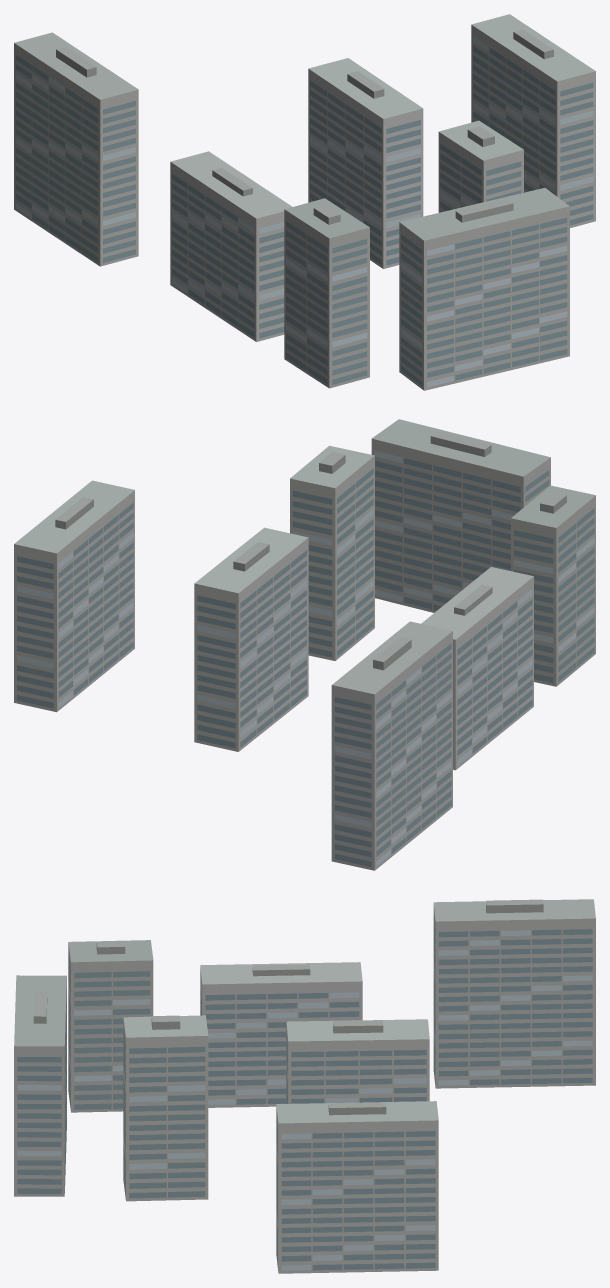
Rendered from apt-a13676702.glb.
The picture shows the model from 3 angles, top to bottom: view 1: azimuth 30°, elevation 25°; view 2: azimuth 150°, elevation 25°; view 3: azimuth 270°, elevation 25°; orthographic projection. The views are drawn at different scales.
Parts seen in each view (by area): view 1: apt-a13676702; view 2: apt-a13676702; view 3: apt-a13676702.
Part boxes in pixels (bbox=[...]): apt-a13676702: bbox=[14, 14, 595, 390]; apt-a13676702: bbox=[14, 419, 595, 870]; apt-a13676702: bbox=[14, 899, 595, 1273].
Size of the model in its own units: 127 by 50 by 151.
